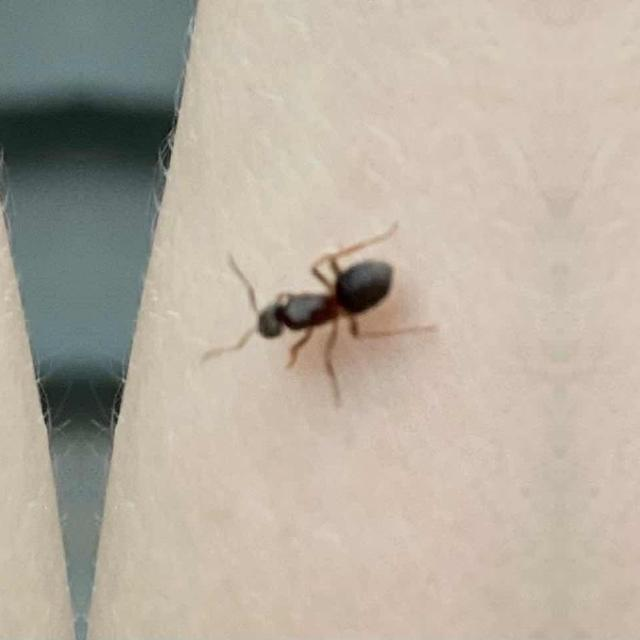Lasius: (232, 217, 414, 387)
